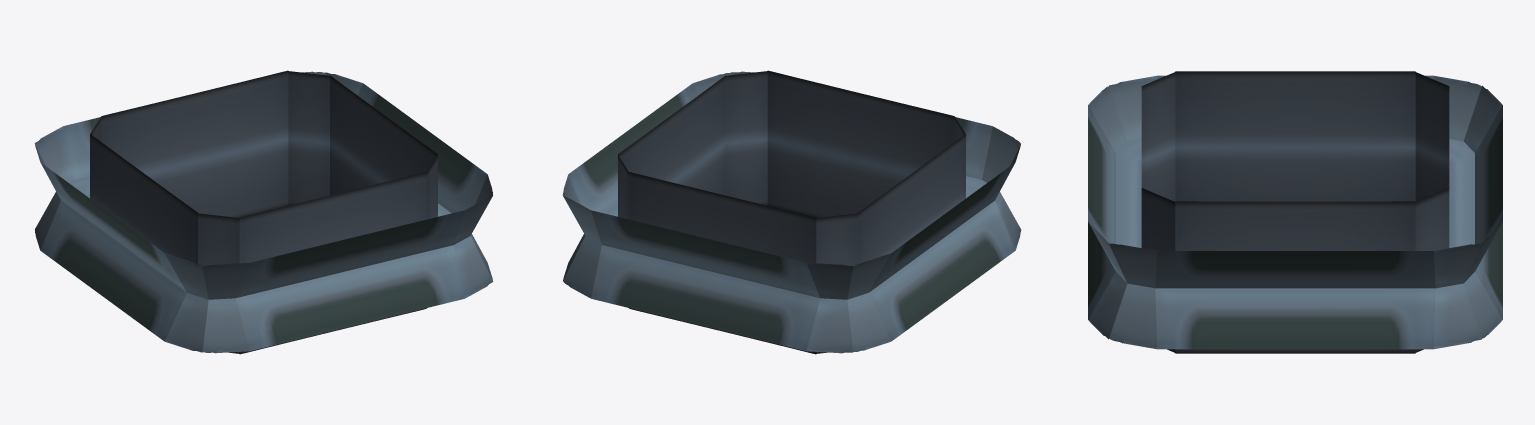
Rendered from obj_interactive_pipe1.fbx.
The picture shows the model from 3 angles, left to right: view 1: azimuth 30°, elevation 25°; view 2: azimuth 150°, elevation 25°; view 3: azimuth 270°, elevation 25°; orthographic projection. The views are drawn at different scales.
Parts seen in each view (by area): view 1: obj_interactive_pipe01; view 2: obj_interactive_pipe01; view 3: obj_interactive_pipe01.
Part boxes in pixels (x1,y1,x2,y2): obj_interactive_pipe01: [34, 70, 493, 354]; obj_interactive_pipe01: [562, 70, 1021, 354]; obj_interactive_pipe01: [1088, 71, 1502, 353].
Size of the model in its own units: 2 by 1.01 by 2.
